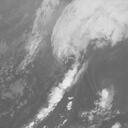cyclone: (38, 36, 91, 87)
